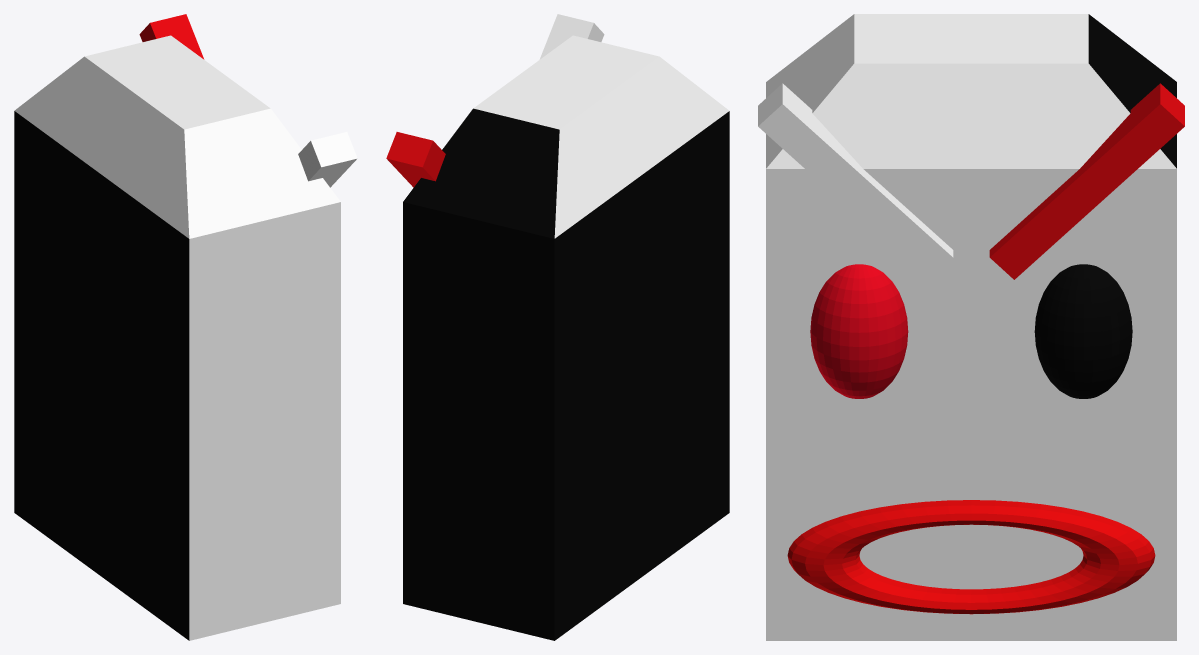
File: Steven.fbx
3 renders of one model, left to right at view 1: azimuth 30°, elevation 25°; view 2: azimuth 150°, elevation 25°; view 3: azimuth 270°, elevation 25°, orthographic. The views are drawn at different scales.
Parts seen in each view (by area): view 1: Cube; view 2: Cube; view 3: Cube.
Boxes of the visible parts, box(x1,y1,x2,y2) form: Cube: box(14, 14, 357, 640); Cube: box(386, 14, 729, 640); Cube: box(758, 14, 1184, 640).
Bounding box in the file's own units: 236 × 600 × 415.
